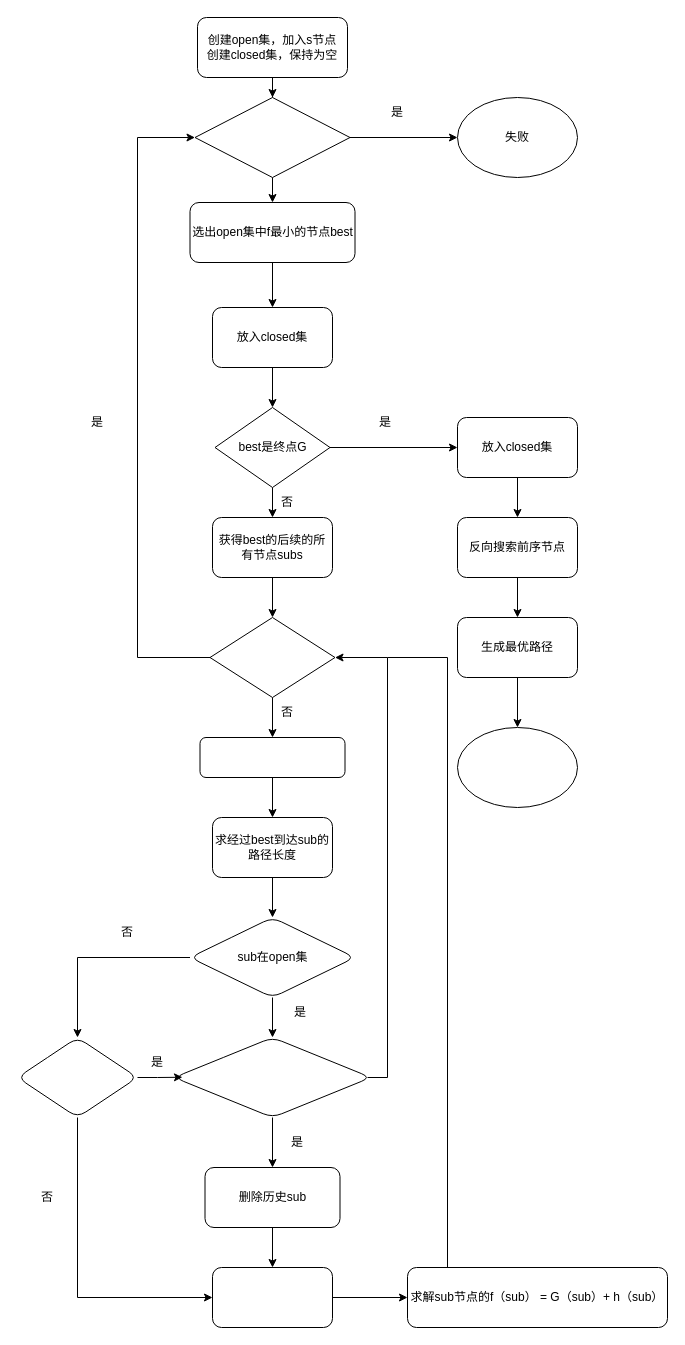
This 685x1345 diagram has some shape labels left out. Here are the shapes that lost their labels. From the top down, the centre of each, then its label:
At (x=272, y=137): "open集为空".
At (x=272, y=657): "subs为空".
At (x=272, y=757): "从subs中取出一个节点sub".
At (x=517, y=767): "成功".
At (x=77, y=1077): "sub在closed集".
At (x=272, y=1077): "G（sub）< g（suib）".
At (x=272, y=1297): "将sub加入open集".
